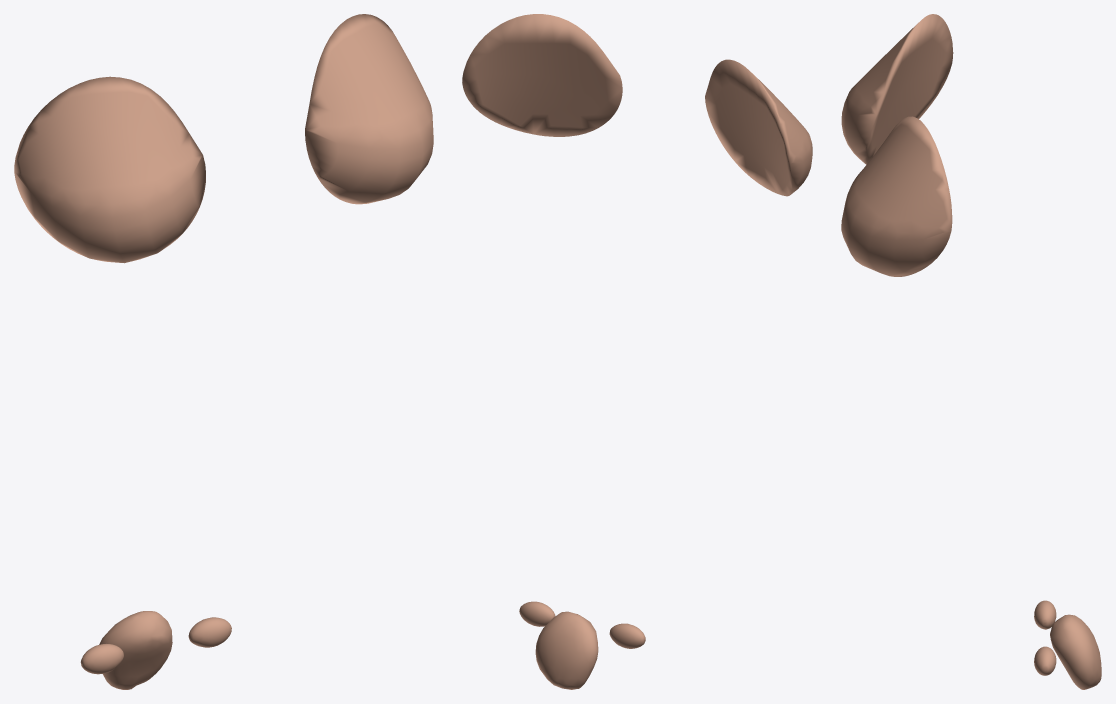
The model's file is pediatric_adolescent_female.reproductive.LOD0.glb.
3 views of the same model, side by side, from view 1: azimuth 30°, elevation 25°; view 2: azimuth 150°, elevation 25°; view 3: azimuth 270°, elevation 25° (orthographic). The views are drawn at different scales.
Visible parts, largest first — view 1: PEDIATRIC.ADOLESCENT.FEMALE.REPRODUCTIVE.BREAST_ADIPOSE_TISS (×2), PEDIATRIC.ADOLESCENT.FEMALE.REPRODUCTIVE.UTERUS, PEDIATRIC.ADOLESCENT.FEMALE.REPRODUCTIVE.OVARY.L, PEDIATRIC.ADOLESCENT.FEMALE.REPRODUCTIVE.OVARY.R; view 2: PEDIATRIC.ADOLESCENT.FEMALE.REPRODUCTIVE.BREAST_ADIPOSE_TISS (×2), PEDIATRIC.ADOLESCENT.FEMALE.REPRODUCTIVE.UTERUS, PEDIATRIC.ADOLESCENT.FEMALE.REPRODUCTIVE.OVARY.R, PEDIATRIC.ADOLESCENT.FEMALE.REPRODUCTIVE.OVARY.L; view 3: PEDIATRIC.ADOLESCENT.FEMALE.REPRODUCTIVE.BREAST_ADIPOSE_TISS (×2), PEDIATRIC.ADOLESCENT.FEMALE.REPRODUCTIVE.UTERUS, PEDIATRIC.ADOLESCENT.FEMALE.REPRODUCTIVE.OVARY.L, PEDIATRIC.ADOLESCENT.FEMALE.REPRODUCTIVE.OVARY.R.
Boxes of the visible parts, box(x1,y1,x2,y2) form: PEDIATRIC.ADOLESCENT.FEMALE.REPRODUCTIVE.BREAST_ADIPOSE_TISS (×2): box(14, 14, 433, 263); PEDIATRIC.ADOLESCENT.FEMALE.REPRODUCTIVE.UTERUS: box(99, 611, 172, 689); PEDIATRIC.ADOLESCENT.FEMALE.REPRODUCTIVE.OVARY.L: box(188, 617, 231, 647); PEDIATRIC.ADOLESCENT.FEMALE.REPRODUCTIVE.OVARY.R: box(80, 644, 123, 674); PEDIATRIC.ADOLESCENT.FEMALE.REPRODUCTIVE.BREAST_ADIPOSE_TISS (×2): box(462, 14, 812, 196); PEDIATRIC.ADOLESCENT.FEMALE.REPRODUCTIVE.UTERUS: box(535, 611, 598, 689); PEDIATRIC.ADOLESCENT.FEMALE.REPRODUCTIVE.OVARY.R: box(609, 623, 645, 648); PEDIATRIC.ADOLESCENT.FEMALE.REPRODUCTIVE.OVARY.L: box(519, 601, 555, 626); PEDIATRIC.ADOLESCENT.FEMALE.REPRODUCTIVE.BREAST_ADIPOSE_TISS (×2): box(841, 14, 953, 276); PEDIATRIC.ADOLESCENT.FEMALE.REPRODUCTIVE.UTERUS: box(1050, 614, 1101, 689); PEDIATRIC.ADOLESCENT.FEMALE.REPRODUCTIVE.OVARY.L: box(1034, 646, 1056, 675); PEDIATRIC.ADOLESCENT.FEMALE.REPRODUCTIVE.OVARY.R: box(1034, 600, 1056, 629).
Size of the model in its own units: 0.2496 by 0.4286 by 0.1633.
